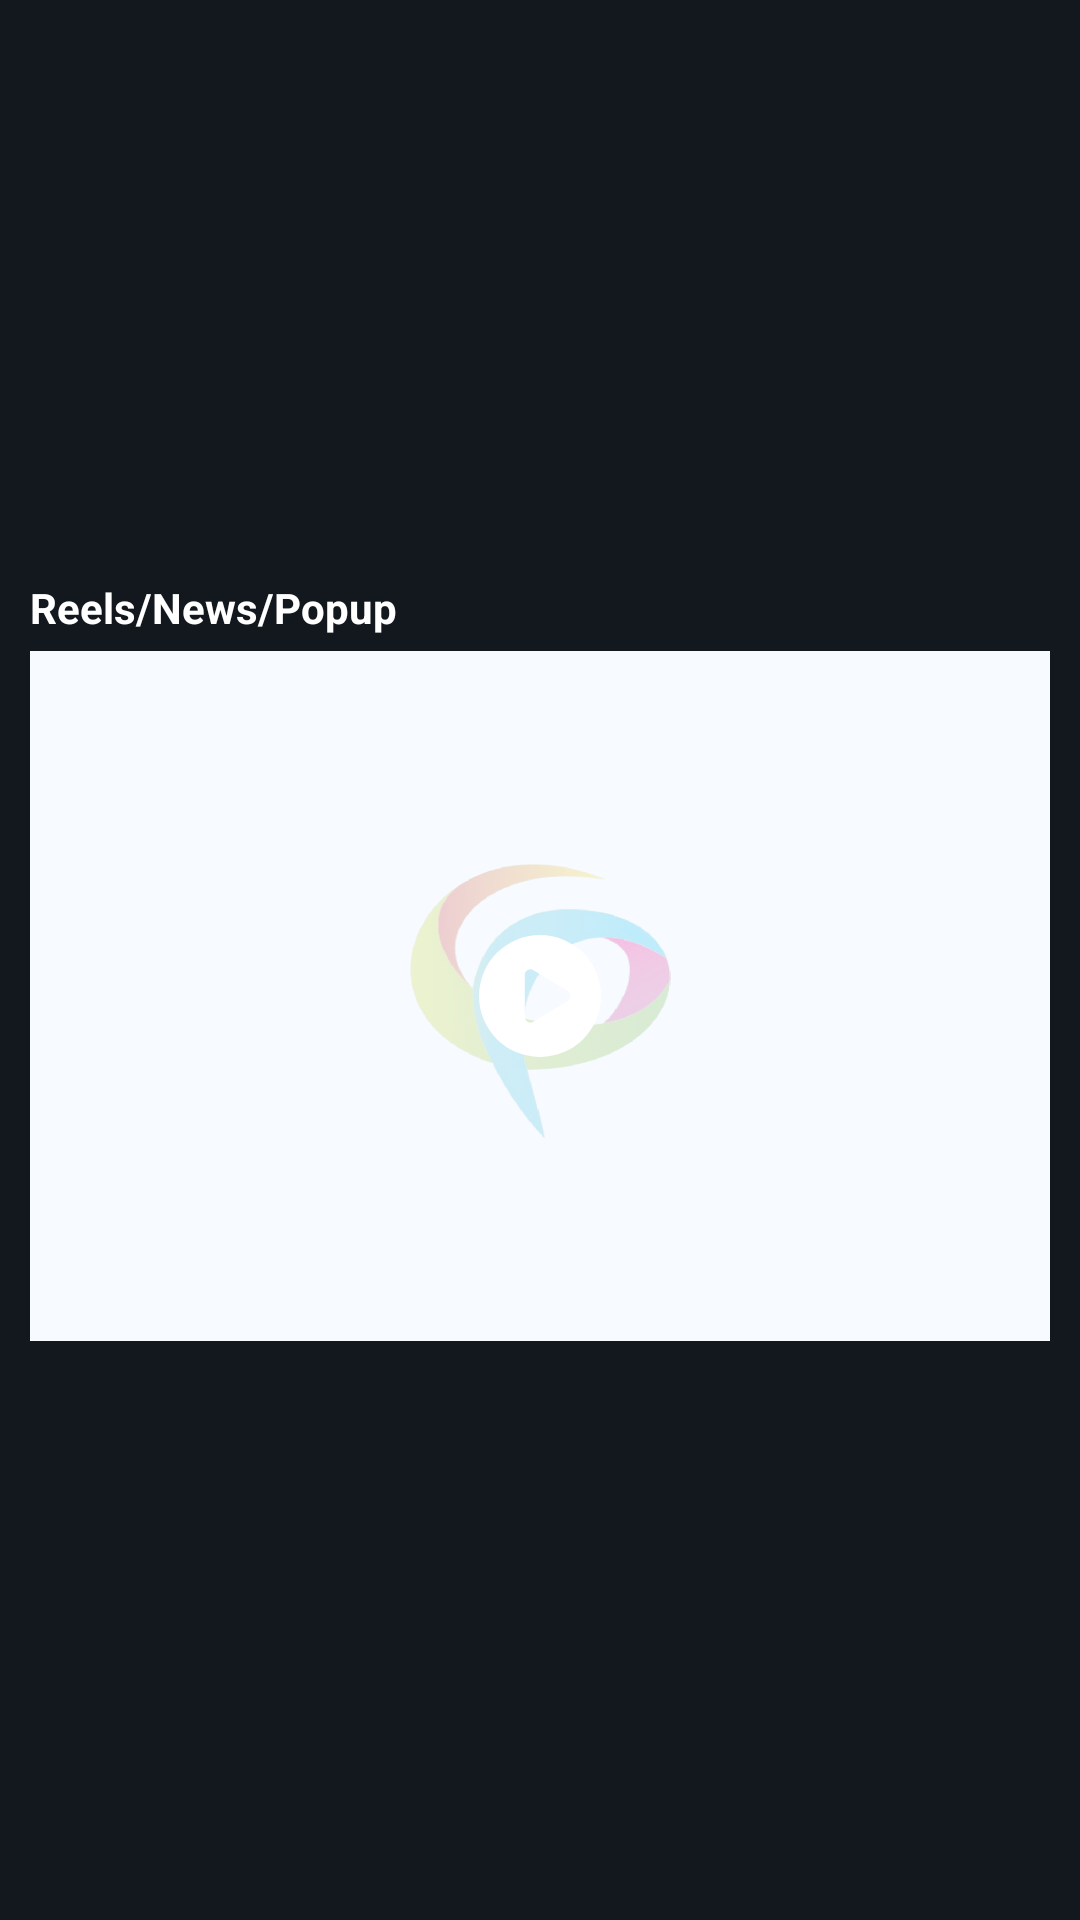

Point at icon controls on the screen. Image size 1080px×1920px, points as point (x, y).
play: point (540, 996)
